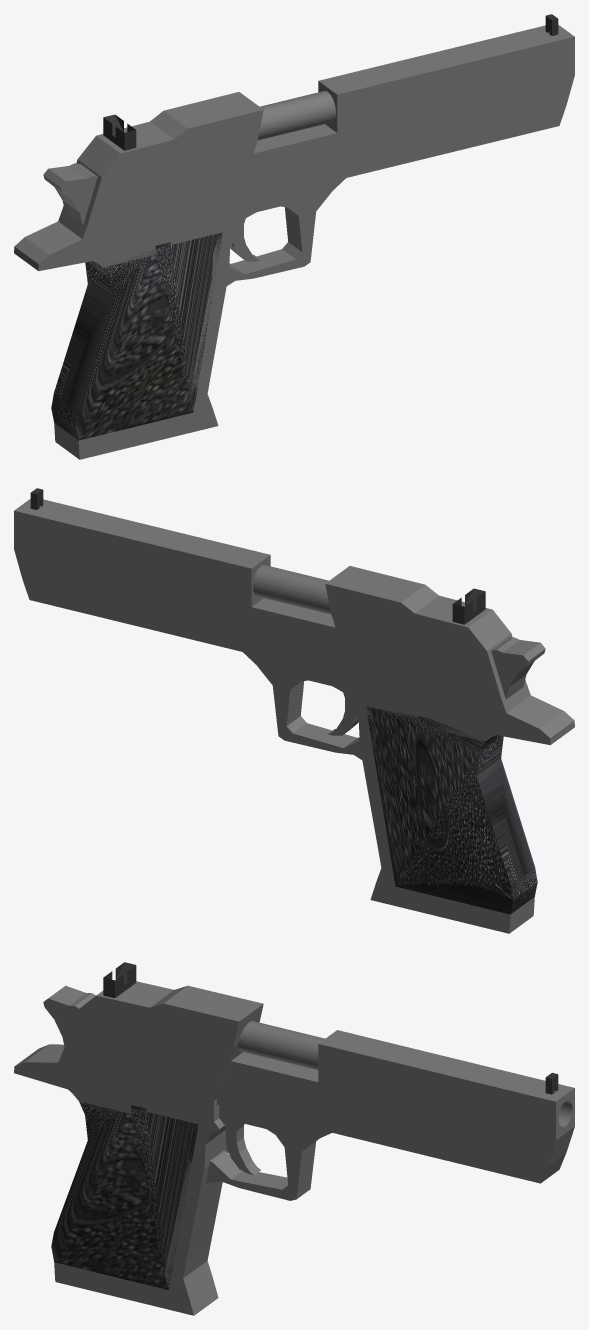
The model's file is ArmaJuego.fbx.
The picture shows the model from 3 angles, top to bottom: view 1: azimuth 30°, elevation 25°; view 2: azimuth 150°, elevation 25°; view 3: azimuth 330°, elevation 25°; orthographic projection.
Parts seen in each view (by area): view 1: Cube.004; view 2: Cube.004; view 3: Cube.004.
Part boxes in pixels (bbox=[...]): Cube.004: bbox=[14, 14, 574, 459]; Cube.004: bbox=[14, 488, 574, 933]; Cube.004: bbox=[14, 962, 574, 1315].
Size of the model in its own units: 486 by 272 by 38.24.
Materials: 4 (1 with a texture image).
